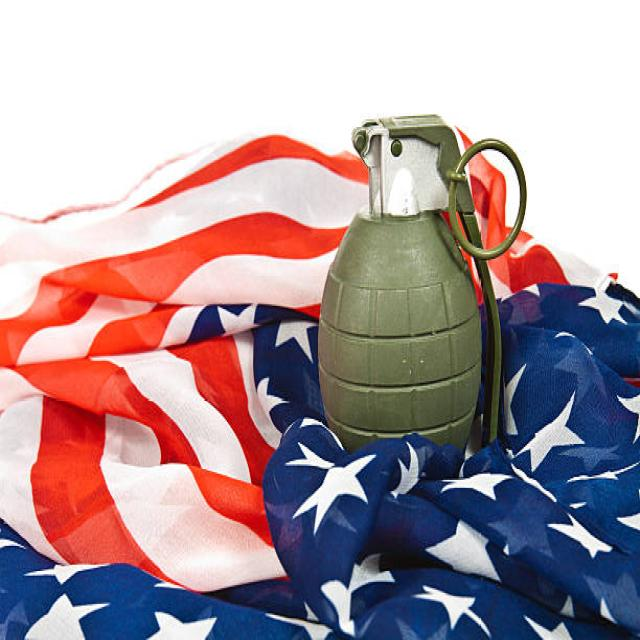grenade: (316, 106, 534, 461)
